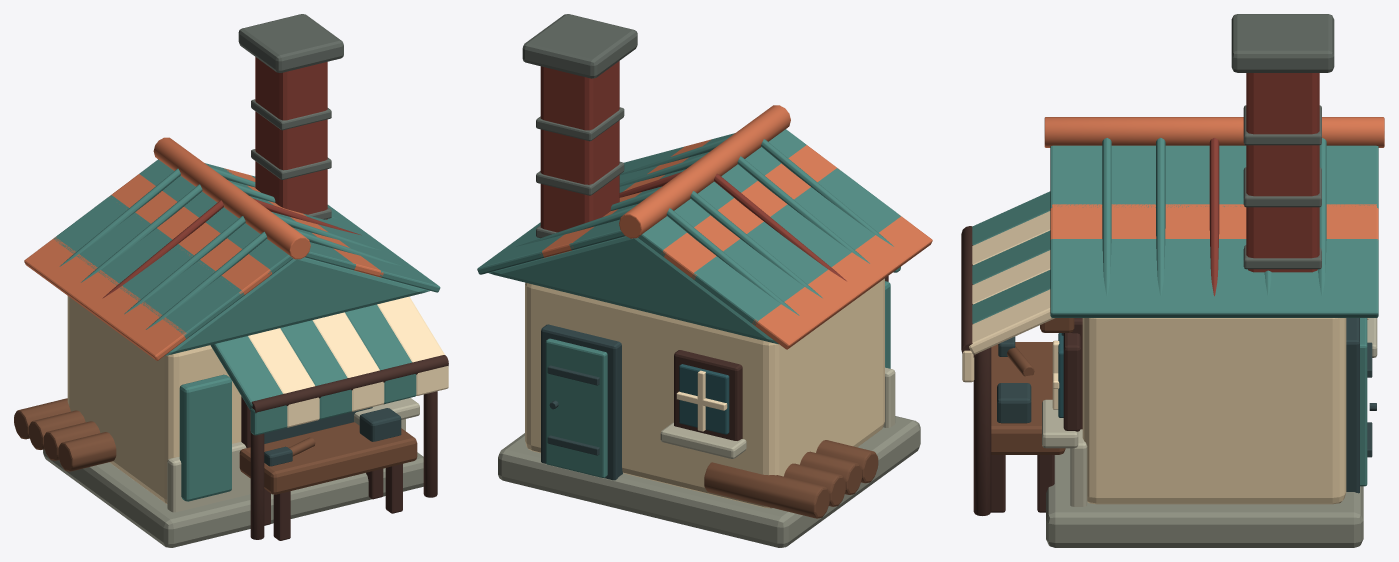
The model's file is workshop.glb.
3 views of the same model, side by side, from view 1: azimuth 30°, elevation 25°; view 2: azimuth 150°, elevation 25°; view 3: azimuth 270°, elevation 25° (orthographic). The views are drawn at different scales.
Parts seen in each view (by area): view 1: workshop · copper, workshop · tile_light, workshop · plaster, workshop · wood_light, workshop · tile_dark, workshop · stone, workshop · plaster_light, workshop · wood, workshop · stone_dark, workshop · stone_light, workshop · metal; view 2: workshop · copper, workshop · plaster, workshop · tile_light, workshop · stone, workshop · tile_dark, workshop · wood_light, workshop · stone_dark, workshop · metal, workshop · wood, workshop · window, workshop · stone_light, workshop · plaster_light; view 3: workshop · plaster, workshop · copper, workshop · tile_light, workshop · stone, workshop · tile_dark, workshop · stone_dark, workshop · wood, workshop · plaster_light, workshop · wood_light, workshop · metal, workshop · stone_light.
Part boxes in pixels (x1,y1,x2,y2): workshop · copper: (54,159,440,501); workshop · tile_light: (24,137,383,360); workshop · plaster: (67,296,241,503); workshop · wood_light: (14,398,417,494); workshop · tile_dark: (102,57,361,298); workshop · stone: (43,449,423,547); workshop · plaster_light: (248,296,448,427); workshop · wood: (241,355,448,540); workshop · stone_dark: (238,14,343,219); workshop · stone_light: (167,398,419,512); workshop · metal: (264,407,401,466); workshop · copper: (477,129,900,477); workshop · plaster: (525,278,884,508); workshop · tile_light: (540,105,932,349); workshop · stone: (498,416,920,547); workshop · tile_dark: (540,61,846,281); workshop · wood_light: (704,440,878,518); workshop · stone_dark: (522,14,637,238); workshop · metal: (541,324,622,480); workshop · wood: (674,276,888,440); workshop · window: (679,364,729,434); workshop · stone_light: (660,367,895,458); workshop · plaster_light: (676,370,727,431); workshop · plaster: (1082,318,1346,504); workshop · copper: (972,138,1378,486); workshop · tile_light: (1044,117,1384,239); workshop · stone: (1046,448,1363,547); workshop · tile_dark: (1209,73,1319,296); workshop · stone_dark: (1231,14,1334,269); workshop · wood: (961,226,1082,515); workshop · plaster_light: (962,211,1368,409); workshop · wood_light: (991,318,1074,454); workshop · metal: (997,318,1376,493); workshop · stone_light: (1042,318,1377,506).
Size of the model in its own units: 0.8903 by 1.11 by 0.866.
